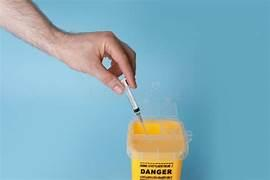Syringe: (121, 78, 145, 131)
